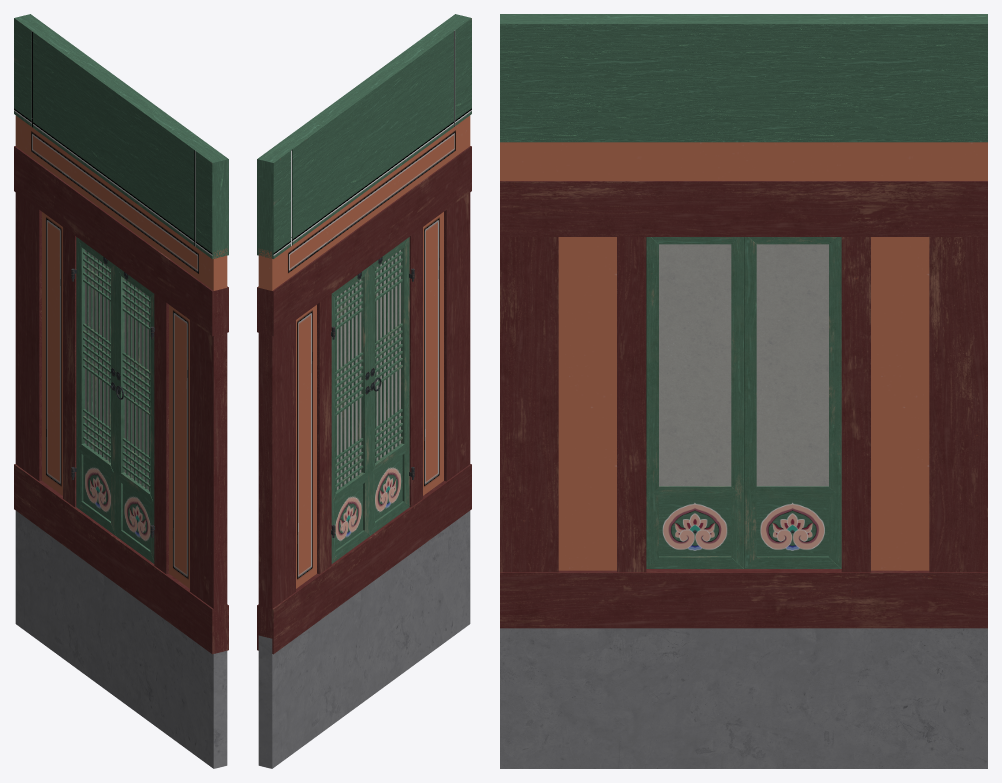
File: SM_CGJ_Wall01j.fbx
The picture shows the model from 3 angles, left to right: view 1: azimuth 30°, elevation 25°; view 2: azimuth 150°, elevation 25°; view 3: azimuth 270°, elevation 25°; orthographic projection. The views are drawn at different scales.
Visible parts, largest first — view 1: SM_CGJ_Wall01j; view 2: SM_CGJ_Wall01j; view 3: SM_CGJ_Wall01j.
Boxes of the visible parts, bbox=[...] form: SM_CGJ_Wall01j: bbox=[14, 14, 228, 768]; SM_CGJ_Wall01j: bbox=[257, 14, 471, 768]; SM_CGJ_Wall01j: bbox=[500, 14, 987, 768].
Bounding box in the file's own units: 13.46 × 250 × 422.
8 materials, 8 textured.
